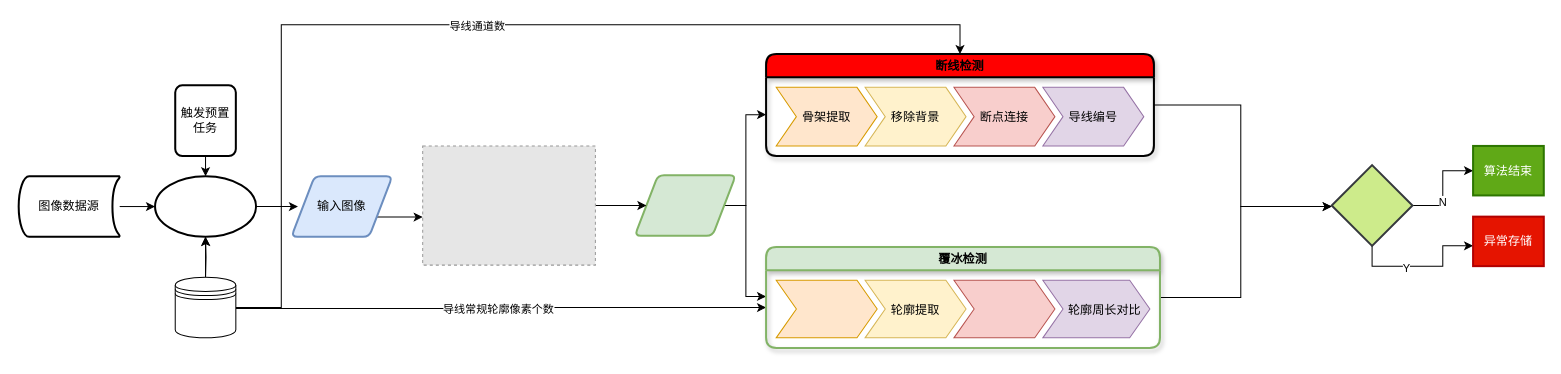
Some shapes in this 1561 by 374 pixel diagram are drawn without their labels. Grey dashed boxes stand in for pictures. Here are the shapes that lost their labels. From the top down, the centre of each, then its label:
[205,206]: 分析算法初始化
[684,205]: 导线分割
[1371,205]: 是否存在缺陷
[205,307]: 算法配置参数数据库
[826,308]: 连通提取
